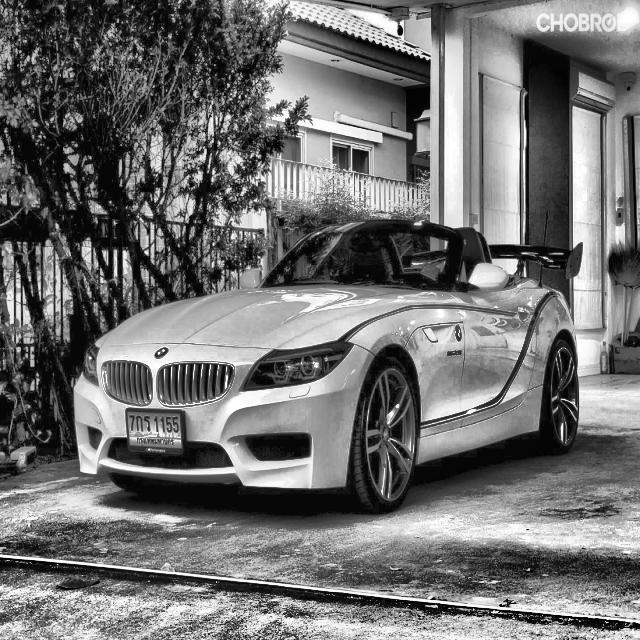license-plate: (121, 406, 189, 466)
